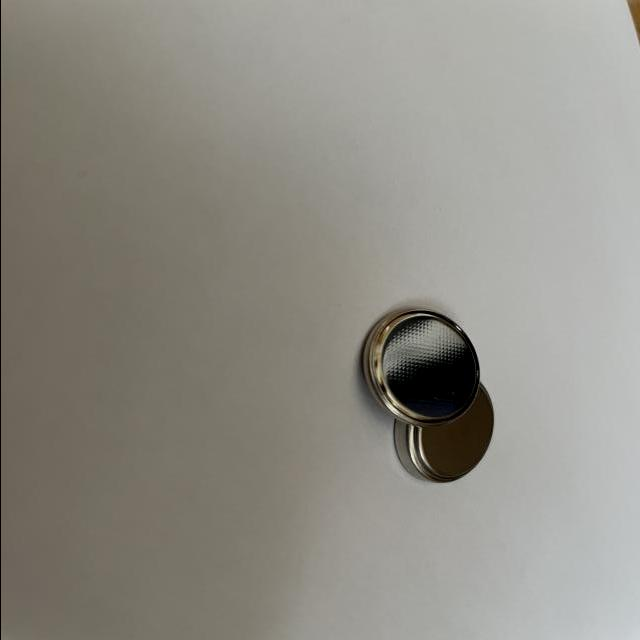COIN: (362, 308, 481, 426), (391, 379, 494, 484)
